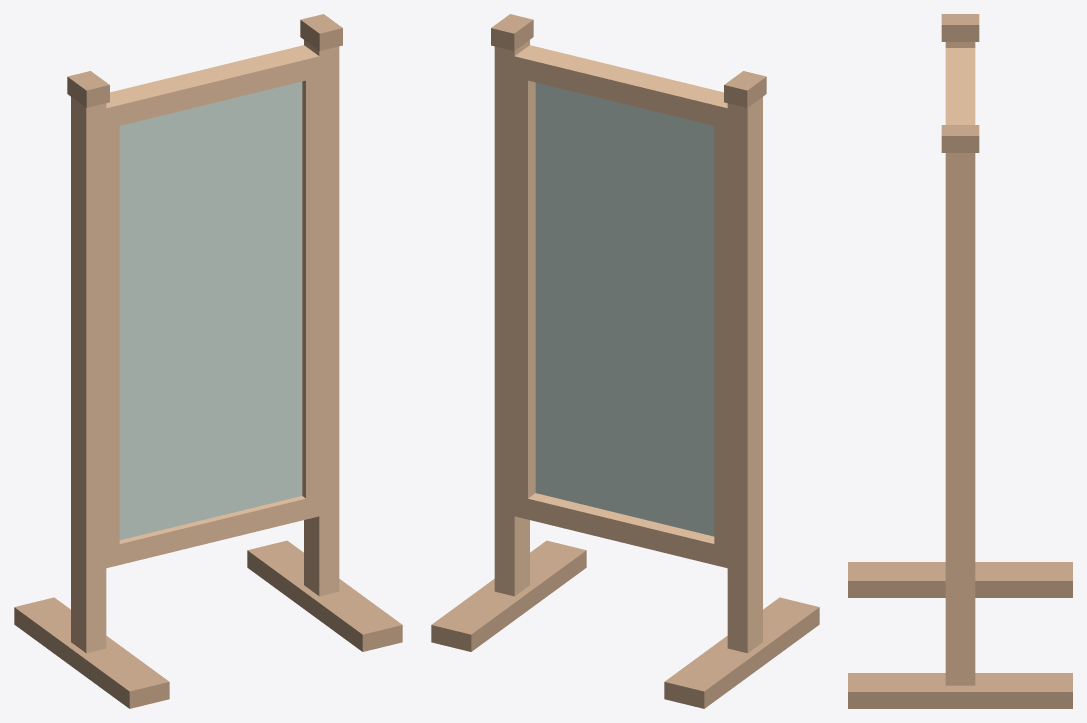
File: mirrorCheval.glb
3 views of the same model, side by side, from view 1: azimuth 30°, elevation 25°; view 2: azimuth 150°, elevation 25°; view 3: azimuth 270°, elevation 25° (orthographic). The views are drawn at different scales.
Visible parts, largest first — view 1: mirrorCheval; view 2: mirrorCheval; view 3: mirrorCheval.
Part boxes in pixels (left/top/right/bottom): mirrorCheval: left=14, top=14, right=402, bottom=708; mirrorCheval: left=431, top=14, right=819, bottom=708; mirrorCheval: left=848, top=14, right=1072, bottom=708.
Bounding box in the file's own units: 0.41 × 0.835 × 0.3.
